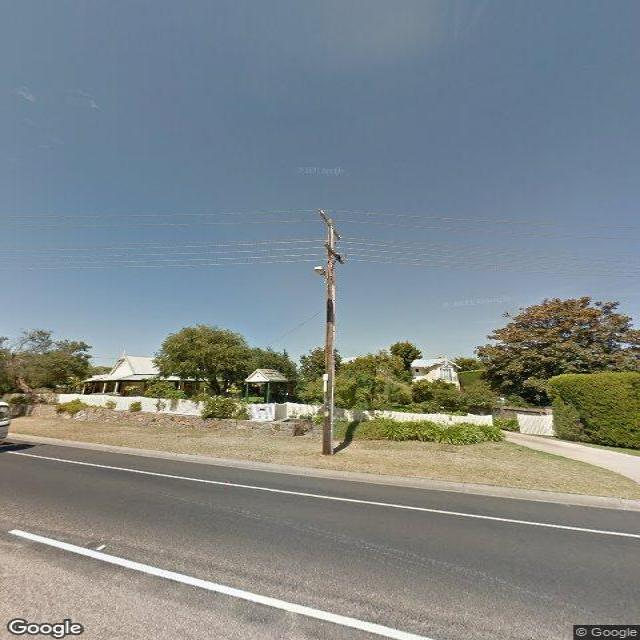crossarm: (317, 209, 343, 240), (324, 244, 345, 264)
mid mount suitable pole: (313, 208, 345, 456)
streetlight: (314, 265, 331, 281)
timber-pole: (322, 218, 334, 455)
